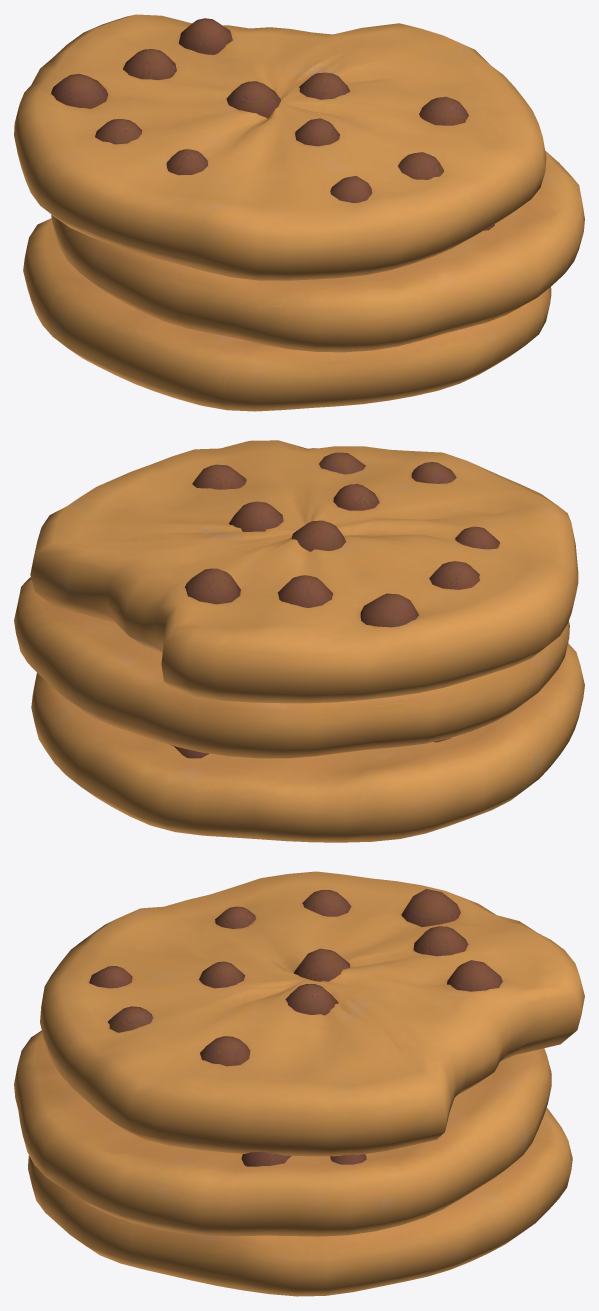
The model's file is galletas.glb.
3 views of the same model, one above another, from view 1: azimuth 30°, elevation 25°; view 2: azimuth 150°, elevation 25°; view 3: azimuth 270°, elevation 25° (orthographic). The views are drawn at different scales.
Visible parts, largest first — view 1: cookie_body; view 2: cookie_body; view 3: cookie_body.
Part boxes in pixels (x1=…): cookie_body: x1=14, y1=14, x2=584, y2=411; cookie_body: x1=14, y1=440, x2=584, y2=842; cookie_body: x1=14, y1=871, x2=584, y2=1296.
Bounding box in the file's own units: 0.0744 × 0.0327 × 0.0742.
1 material, 1 textured.
